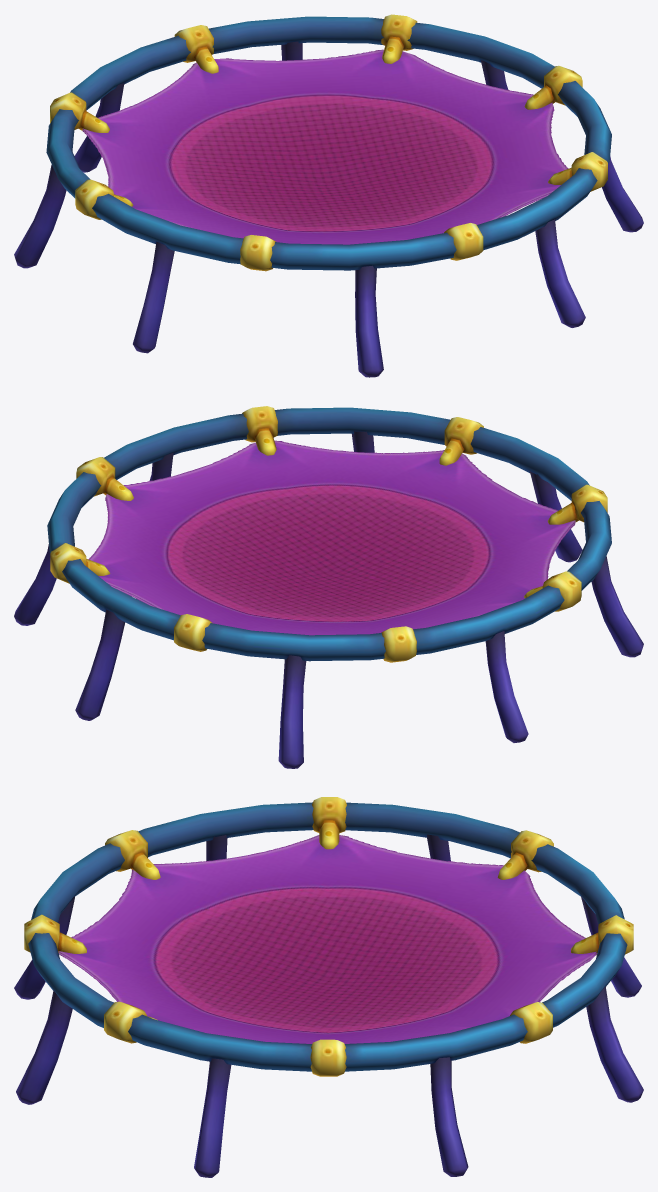
The model's file is SE_Trampoline_01.fbx.
3 renders of one model, top to bottom at view 1: azimuth 30°, elevation 25°; view 2: azimuth 150°, elevation 25°; view 3: azimuth 270°, elevation 25°, orthographic. The views are drawn at different scales.
Parts seen in each view (by area): view 1: SE_Trampoline_01; view 2: SE_Trampoline_01; view 3: SE_Trampoline_01.
Part boxes in pixels (x1=…): SE_Trampoline_01: x1=14, y1=14, x2=643, y2=377; SE_Trampoline_01: x1=14, y1=406, x2=643, y2=768; SE_Trampoline_01: x1=14, y1=797, x2=643, y2=1177.
Size of the model in its own units: 10.76 by 2.47 by 10.76.
